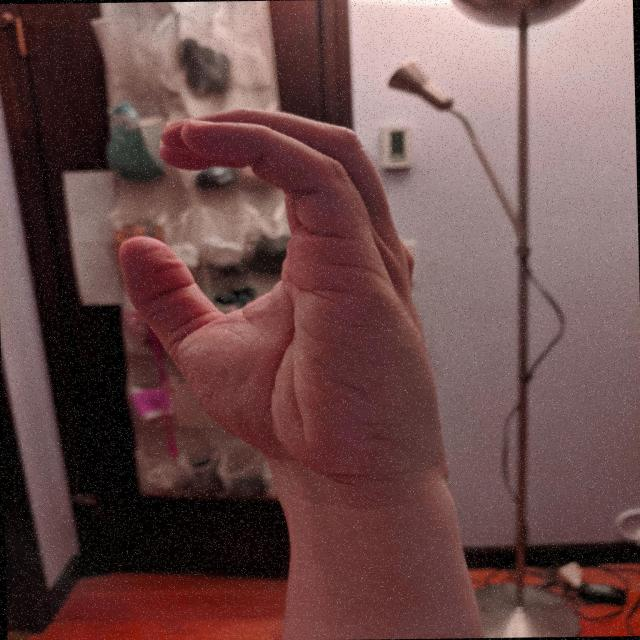C: (105, 100, 457, 503)
